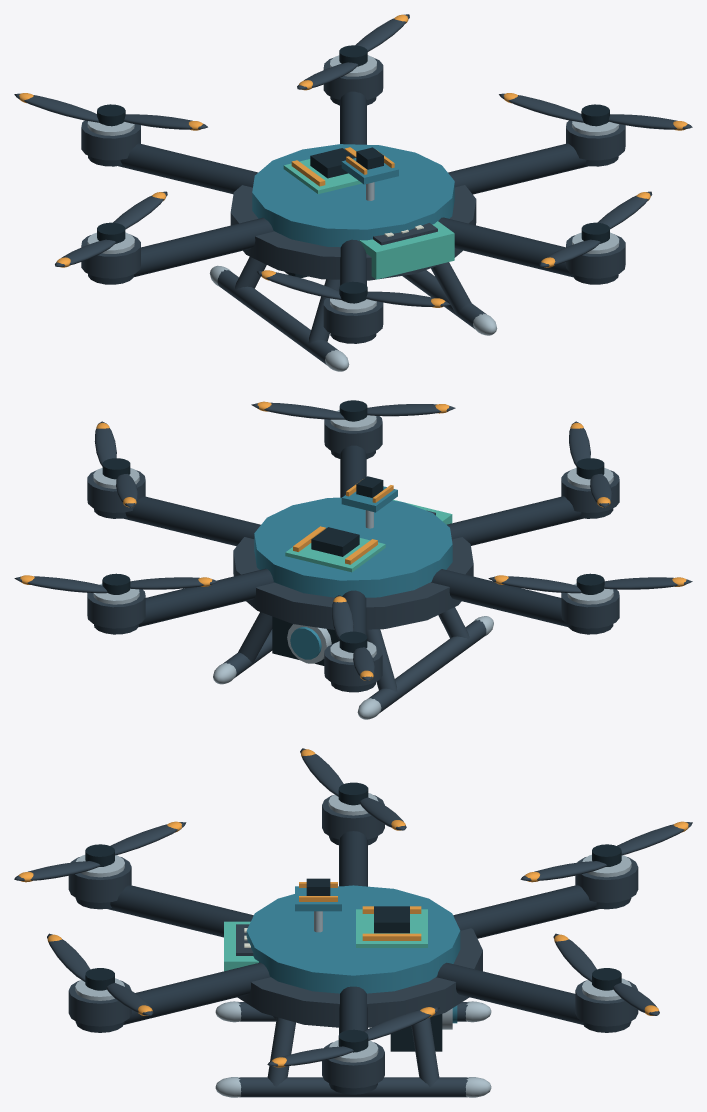
File: class-multirotor.glb
The picture shows the model from 3 angles, top to bottom: view 1: azimuth 30°, elevation 25°; view 2: azimuth 150°, elevation 25°; view 3: azimuth 270°, elevation 25°; orthographic projection. The views are drawn at different scales.
Parts seen in each view (by area): view 1: part-frame-1, part-landing-gear-17, part-battery-14, part-propeller-3, part-propeller-7, part-propeller-11, part-flight-controller-15, part-motor-6, part-propeller-5, part-propeller-9, part-propeller-13, part-motor-10 (+5 smaller); view 2: part-frame-1, part-landing-gear-17, part-flight-controller-15, part-propeller-9, part-propeller-13, part-propeller-5, part-payload-18, part-motor-8, part-motor-12, part-motor-4, part-propeller-11, part-propeller-3 (+5 smaller); view 3: part-frame-1, part-landing-gear-17, part-flight-controller-15, part-propeller-11, part-propeller-3, part-propeller-7, part-motor-2, part-propeller-9, part-propeller-13, part-propeller-5, part-motor-10, part-motor-6 (+6 smaller).
Boxes of the visible parts, x1,y1,x2,y2 form: part-frame-1: (88, 91, 618, 343); part-landing-gear-17: (209, 257, 497, 371); part-battery-14: (359, 221, 454, 279); part-propeller-3: (499, 93, 692, 130); part-propeller-7: (256, 270, 450, 307); part-propeller-11: (14, 93, 207, 130); part-flight-controller-15: (283, 147, 361, 194); part-motor-6: (323, 298, 383, 337); part-propeller-5: (539, 191, 652, 267); part-propeller-9: (55, 191, 167, 267); part-propeller-13: (297, 14, 409, 90); part-motor-10: (81, 120, 140, 160); part-frame-1: (94, 445, 613, 692); part-landing-gear-17: (213, 607, 493, 719); part-flight-controller-15: (285, 526, 385, 572); part-propeller-9: (488, 573, 692, 594); part-propeller-13: (14, 573, 218, 594); part-propeller-5: (251, 400, 455, 420); part-payload-18: (272, 616, 339, 665); part-motor-8: (561, 583, 619, 628); part-motor-12: (87, 583, 145, 628); part-motor-4: (324, 410, 382, 453); part-propeller-11: (332, 595, 374, 680); part-propeller-3: (94, 421, 137, 507); part-frame-1: (75, 831, 631, 1094); part-landing-gear-17: (215, 1001, 491, 1097); part-flight-controller-15: (356, 906, 427, 947); part-propeller-11: (520, 821, 692, 882); part-propeller-3: (267, 1007, 439, 1067); part-propeller-7: (14, 821, 186, 882); part-motor-2: (322, 1040, 384, 1088); part-propeller-9: (300, 748, 406, 830); part-propeller-13: (553, 933, 659, 1015); part-propeller-5: (47, 933, 153, 1015); part-motor-10: (575, 854, 638, 902); part-motor-6: (68, 855, 131, 902).
Bounding box in the file's own units: 4.29 × 1.11 × 3.88.
